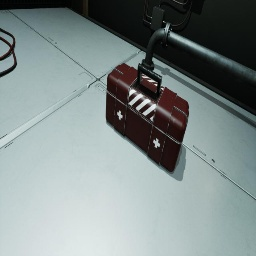FirstAidBox ,: (105, 63, 189, 172)
